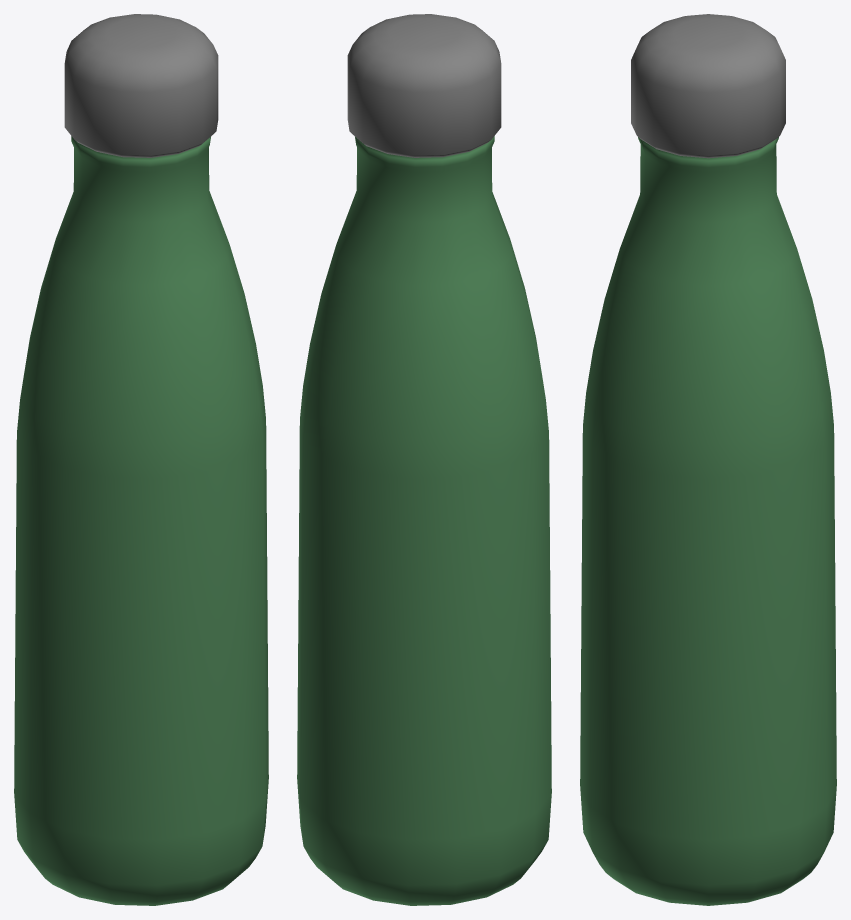
The model's file is waterbottle.glb.
The picture shows the model from 3 angles, left to right: view 1: azimuth 30°, elevation 25°; view 2: azimuth 150°, elevation 25°; view 3: azimuth 270°, elevation 25°; orthographic projection.
Parts seen in each view (by area): view 1: Plane; view 2: Plane; view 3: Plane.
Part boxes in pixels (x1,y1,x2,y2): Plane: [14, 14, 268, 905]; Plane: [297, 14, 551, 905]; Plane: [580, 14, 836, 905].
Size of the model in its own units: 1.08 by 3.88 by 1.08.
